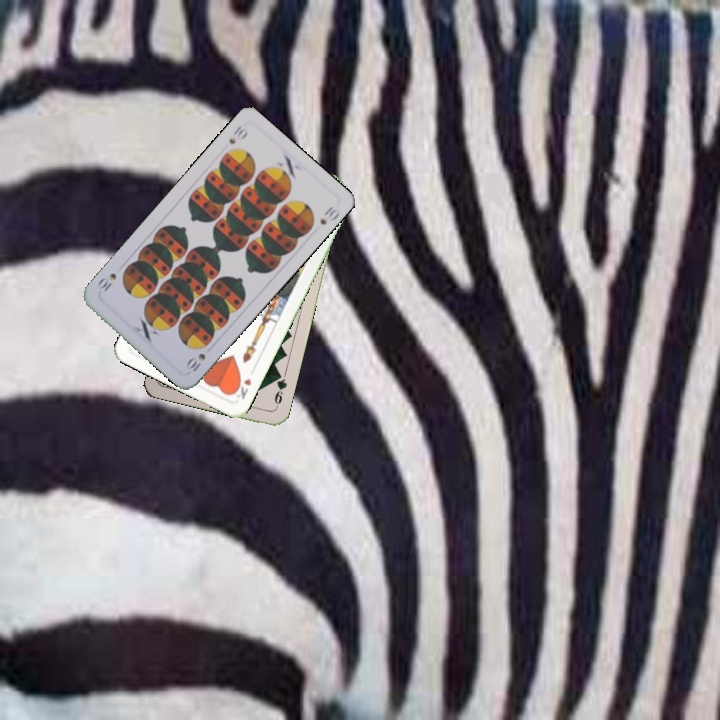G9: (270, 370, 290, 411)
HK: (229, 373, 254, 402)
S10: (225, 121, 251, 147), (182, 349, 208, 374)
